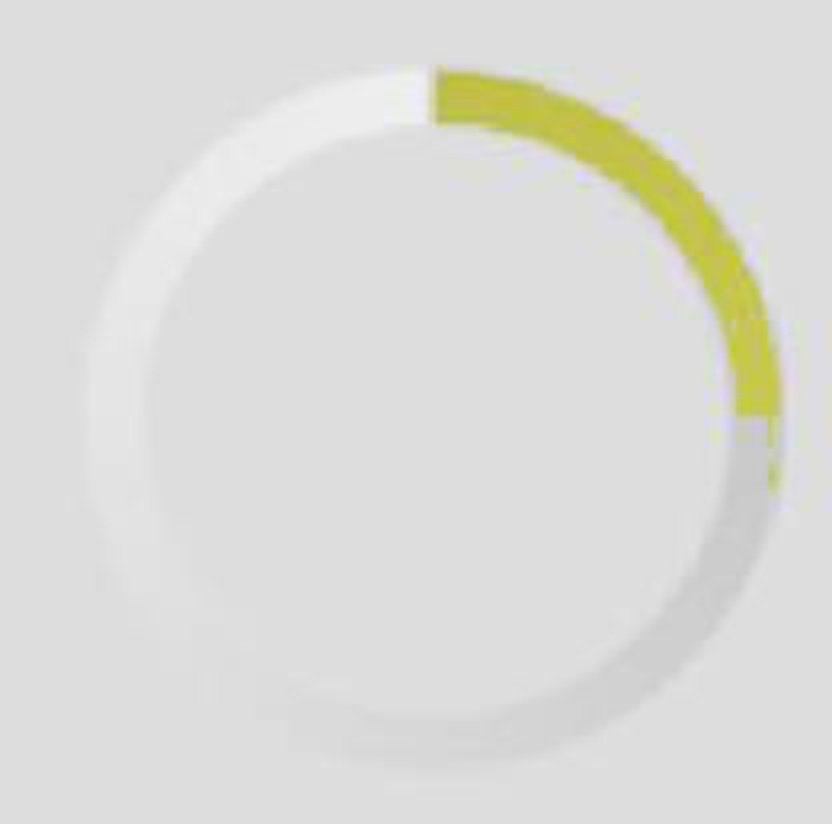ProgressBar: (1, 1, 831, 823)
